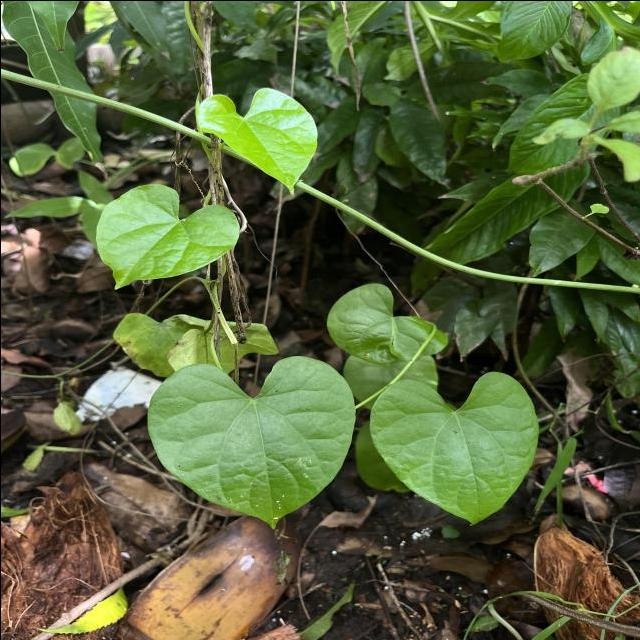Tinospora cordifolia: (144, 352, 358, 531), (367, 368, 540, 528), (94, 182, 241, 291), (194, 84, 320, 196)
